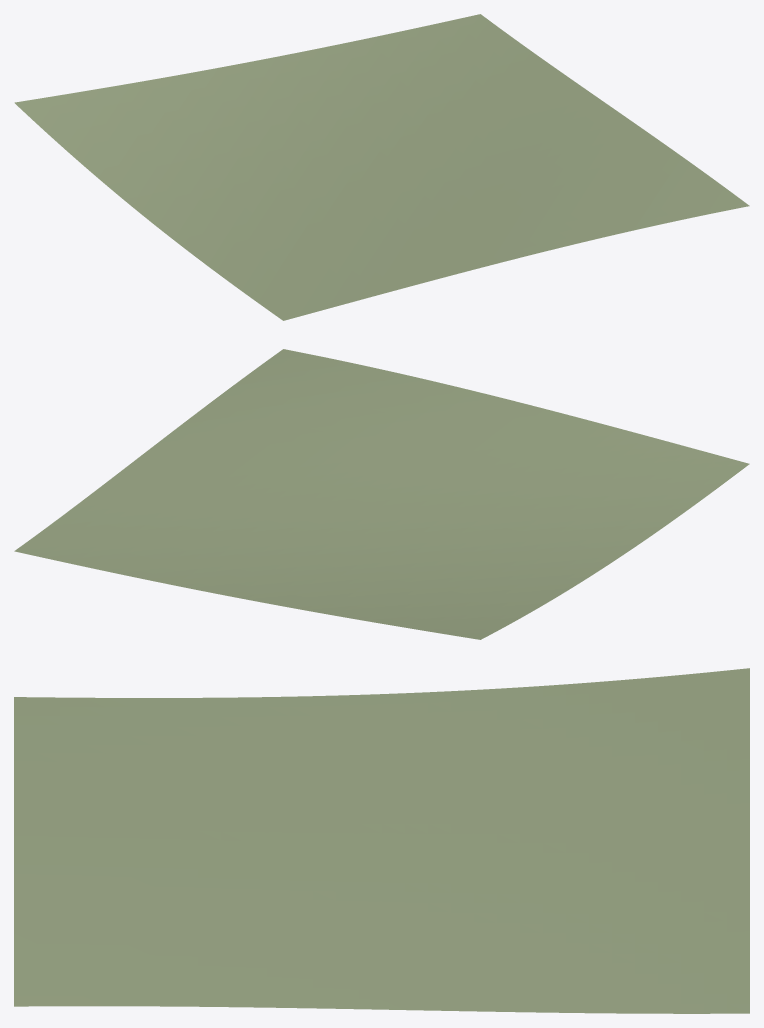
The model's file is alpine-14-15.glb.
3 renders of one model, top to bottom at view 1: azimuth 30°, elevation 25°; view 2: azimuth 150°, elevation 25°; view 3: azimuth 270°, elevation 25°, orthographic. The views are drawn at different scales.
Visible parts, largest first — view 1: alpine-14-15; view 2: alpine-14-15; view 3: alpine-14-15.
Part boxes in pixels (x1=…): alpine-14-15: x1=14, y1=14, x2=749, y2=320; alpine-14-15: x1=14, y1=349, x2=749, y2=639; alpine-14-15: x1=14, y1=668, x2=749, y2=1013.
Size of the model in its own units: 256 by 13.3 by 256.
